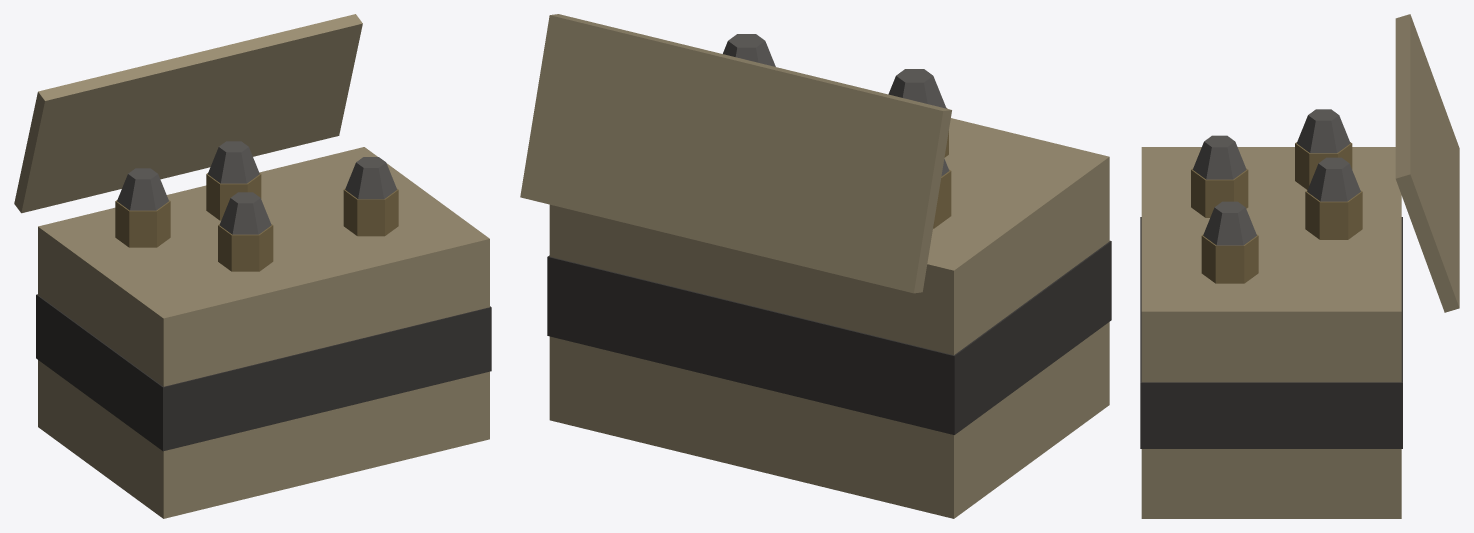
The model's file is rounds.glb.
The picture shows the model from 3 angles, left to right: view 1: azimuth 30°, elevation 25°; view 2: azimuth 150°, elevation 25°; view 3: azimuth 270°, elevation 25°; orthographic projection. The views are drawn at different scales.
Parts seen in each view (by area): view 1: rounds; view 2: rounds; view 3: rounds.
Boxes of the visible parts, x1,y1,x2,y2 form: rounds: [14, 14, 491, 518]; rounds: [520, 14, 1111, 518]; rounds: [1140, 14, 1459, 518].
Size of the model in its own units: 0.0755 by 0.0727 by 0.0614.
